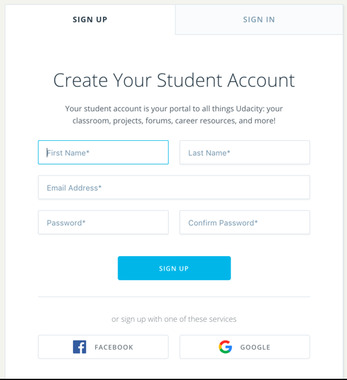_form_: (1, 1, 347, 380)
button: (116, 254, 233, 282)
field: (36, 173, 312, 201), (36, 138, 171, 167), (177, 138, 313, 166), (177, 208, 313, 236), (36, 208, 171, 235)
